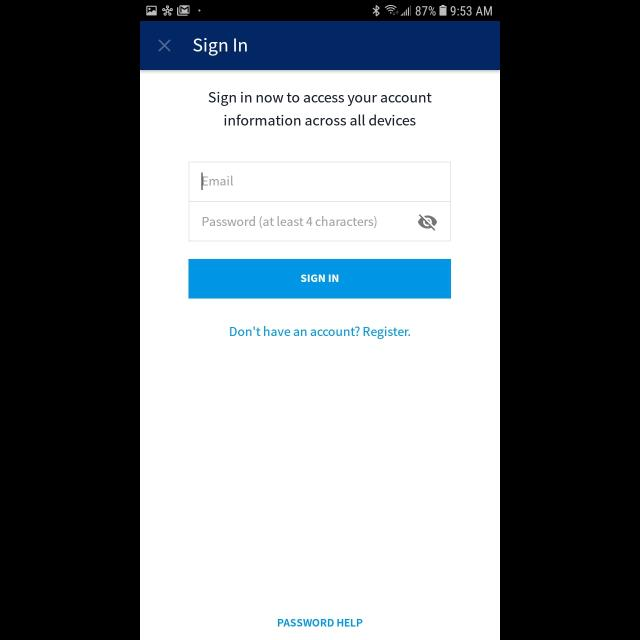icon: (418, 214, 438, 232), (159, 40, 171, 52)
input: (189, 202, 451, 242), (189, 162, 451, 202)
text: (208, 92, 432, 126), (230, 326, 410, 339), (203, 216, 377, 228), (193, 38, 247, 56), (278, 620, 362, 626), (202, 176, 234, 186)
textbutton: (188, 259, 452, 299)
uppertaskbar: (140, 1, 500, 22)
